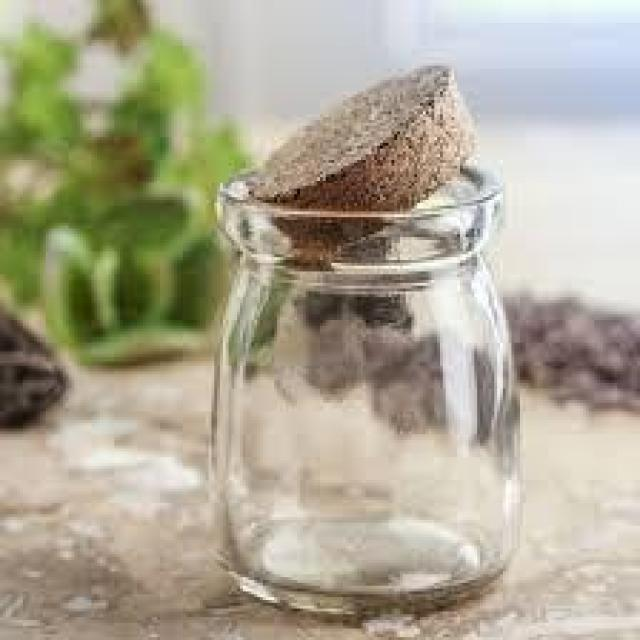Glass: (210, 60, 524, 620)
